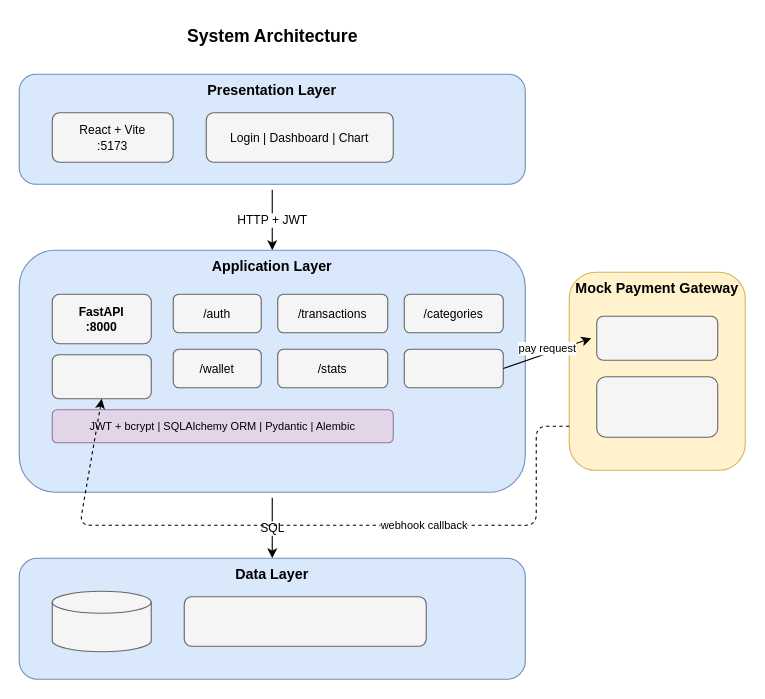
Some shapes in this 765 by 699 pixel diagram are drawn without their labels. Each missing label, with the centre of its shape:
"/orders" goes at [453,368].
"/webhook /payment" goes at [101,376].
"FastAPI :9000" goes at [657,337].
"POST /pay → delay 3s → sign + callback" goes at [657,406].
"SQLite ledger.db" goes at [101,621].
"users | wallets | ledger_entries transactions | categories | orders" goes at [304,621].
